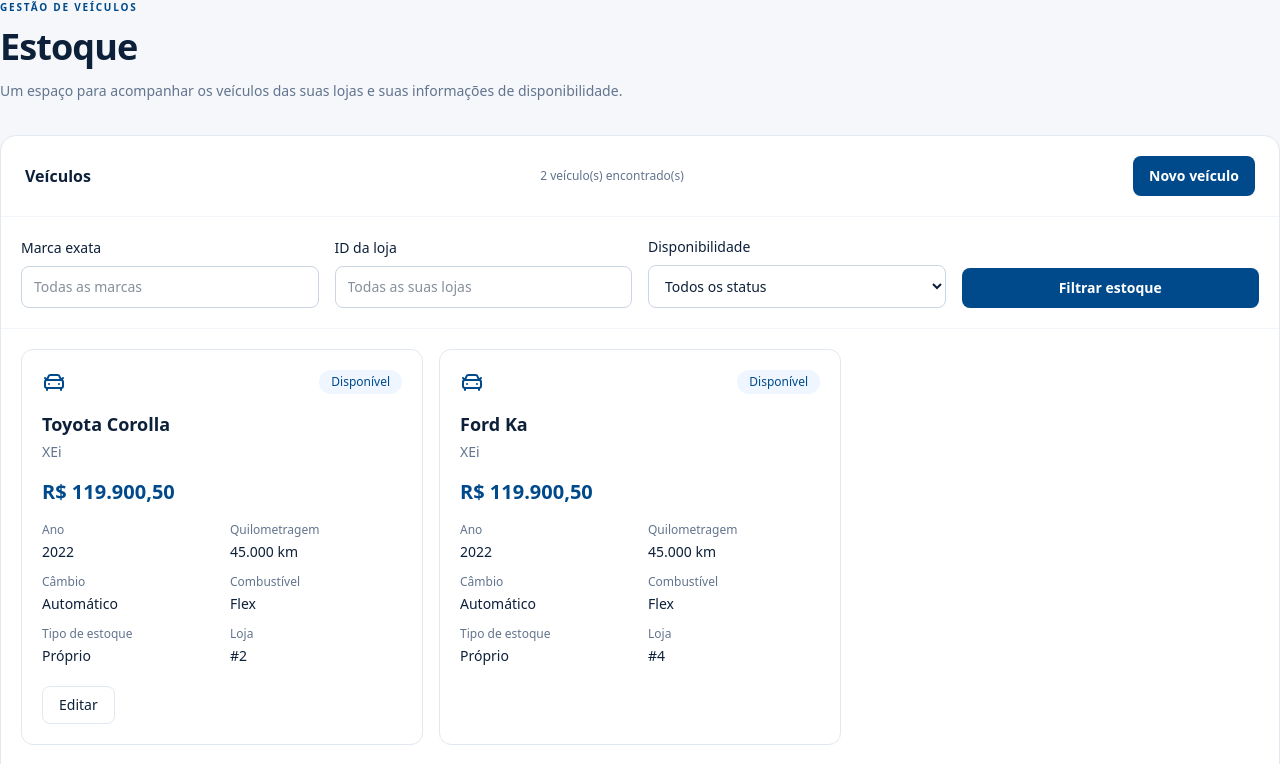
Scenario: edição de veículos no estoque › não envia PATCH sem alterações e valida os campos antes de salvar
Click the button with aria-label "Editar Toyota Corolla #10" at (78, 705), box left=42, top=686, right=115, bottom=724
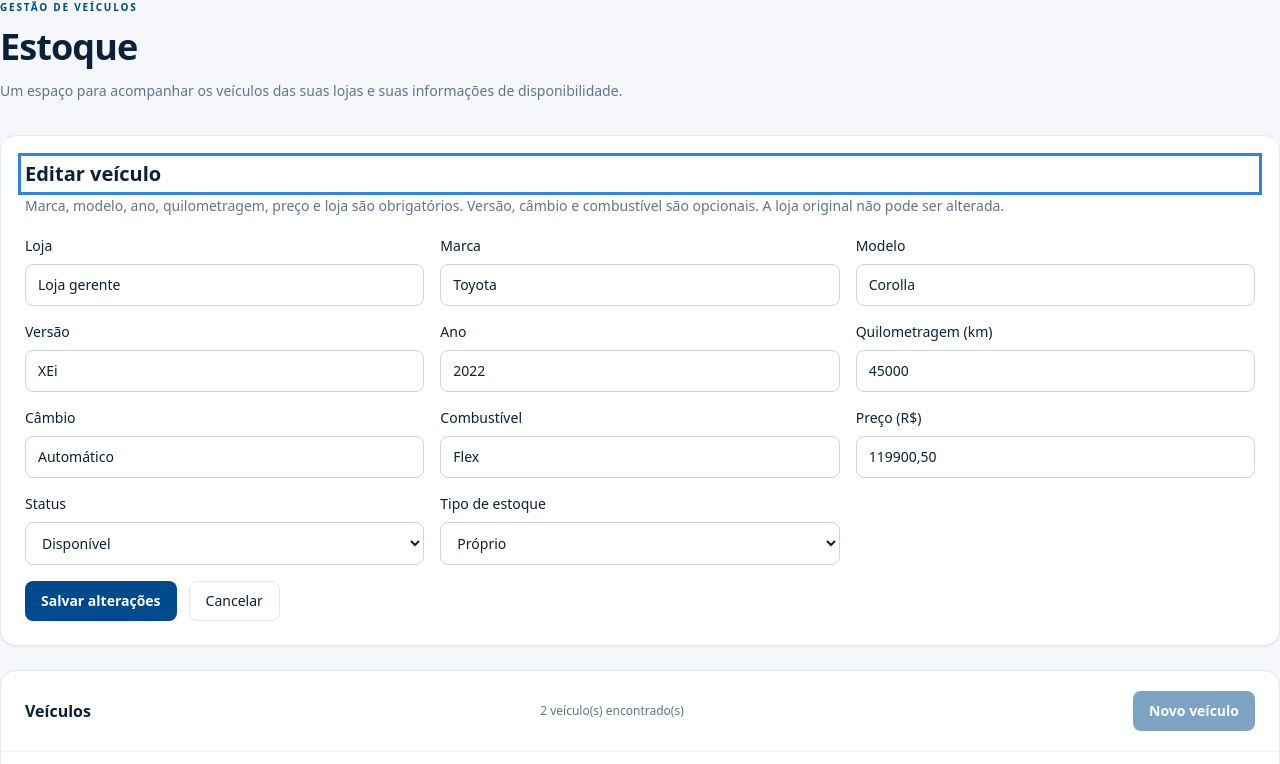
Click the button "Salvar alterações" at (101, 601), box left=25, top=581, right=177, bottom=621
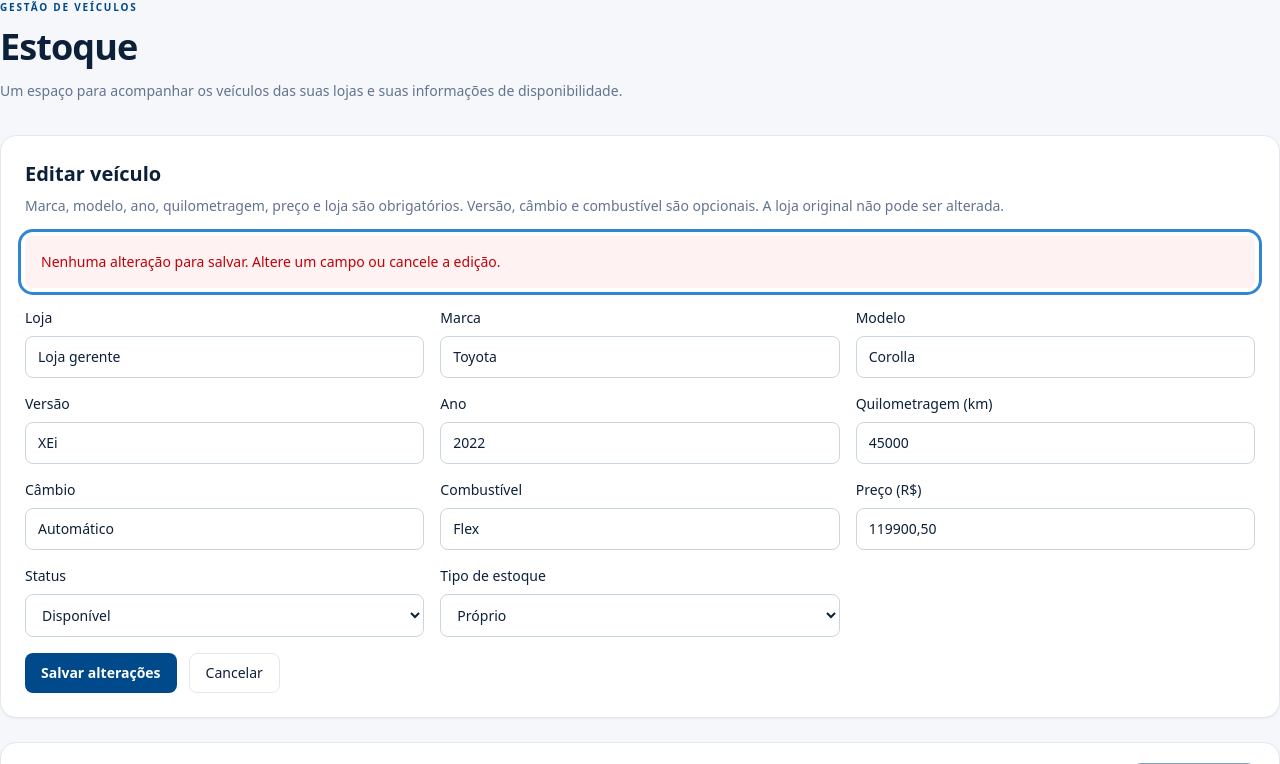
Result: the message shows "Nenhuma alteração para salvar" at left=41, top=252, right=500, bottom=271
Clear the field labelled "Marca" at (640, 357), box left=440, top=336, right=840, bottom=378
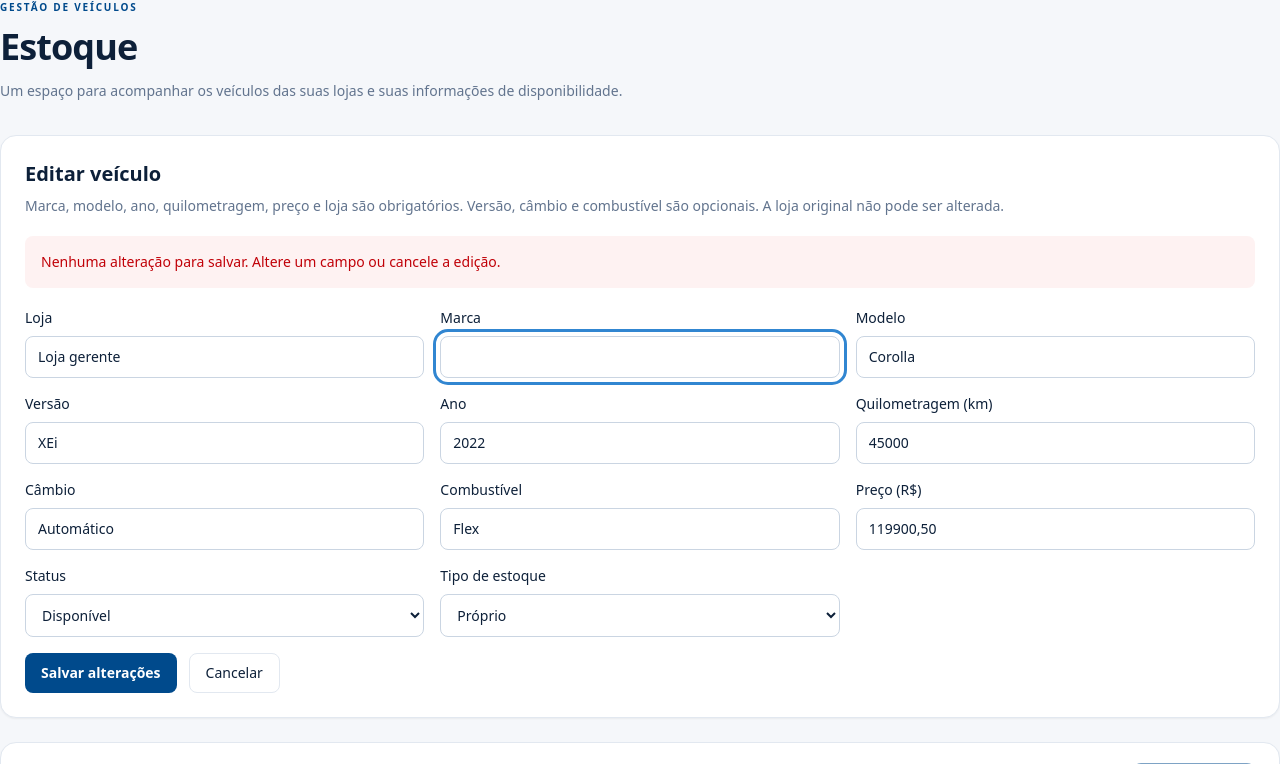
Replace the text in the field labelled "Preço (R$)" with "0" at (1055, 529), box left=856, top=508, right=1255, bottom=550
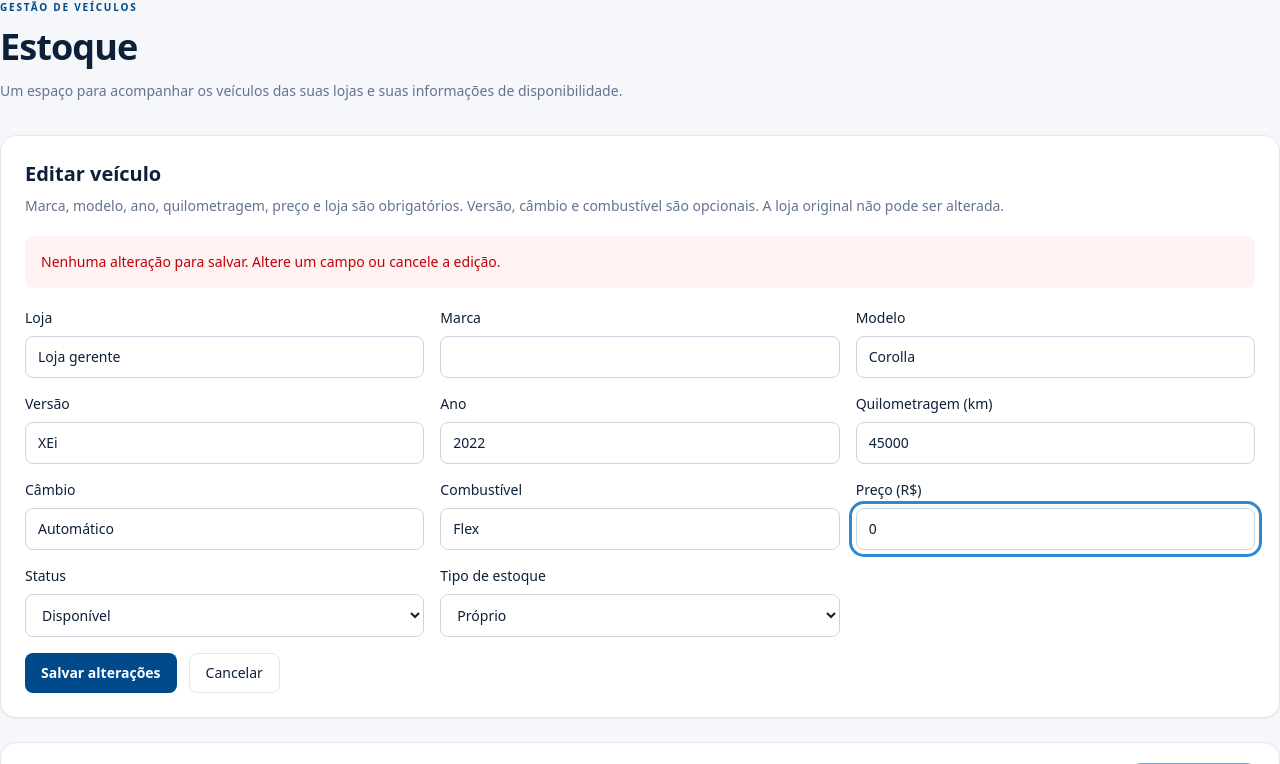
Click the button "Salvar alterações" at (101, 673), box left=25, top=653, right=177, bottom=693
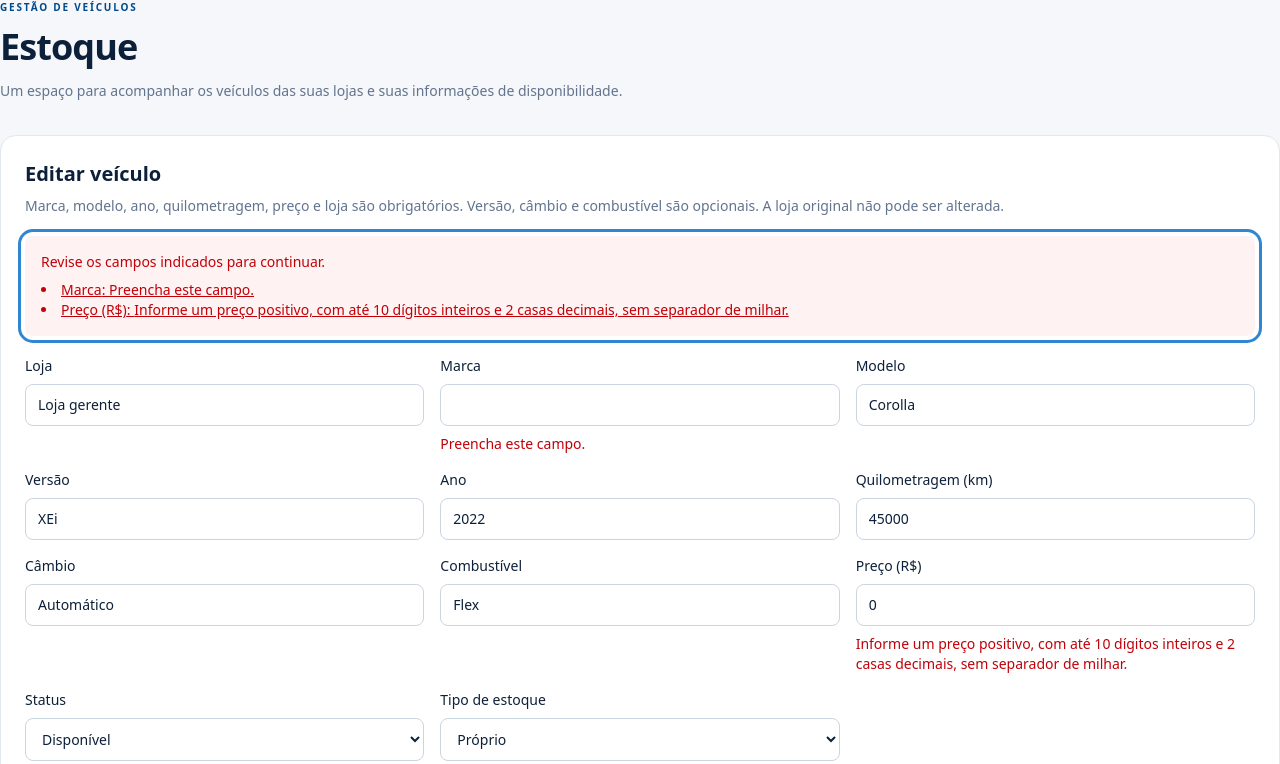
Result: the message shows "Preencha este campo" at left=61, top=280, right=254, bottom=299
Result: the message shows "preço positivo" at left=61, top=300, right=789, bottom=319
